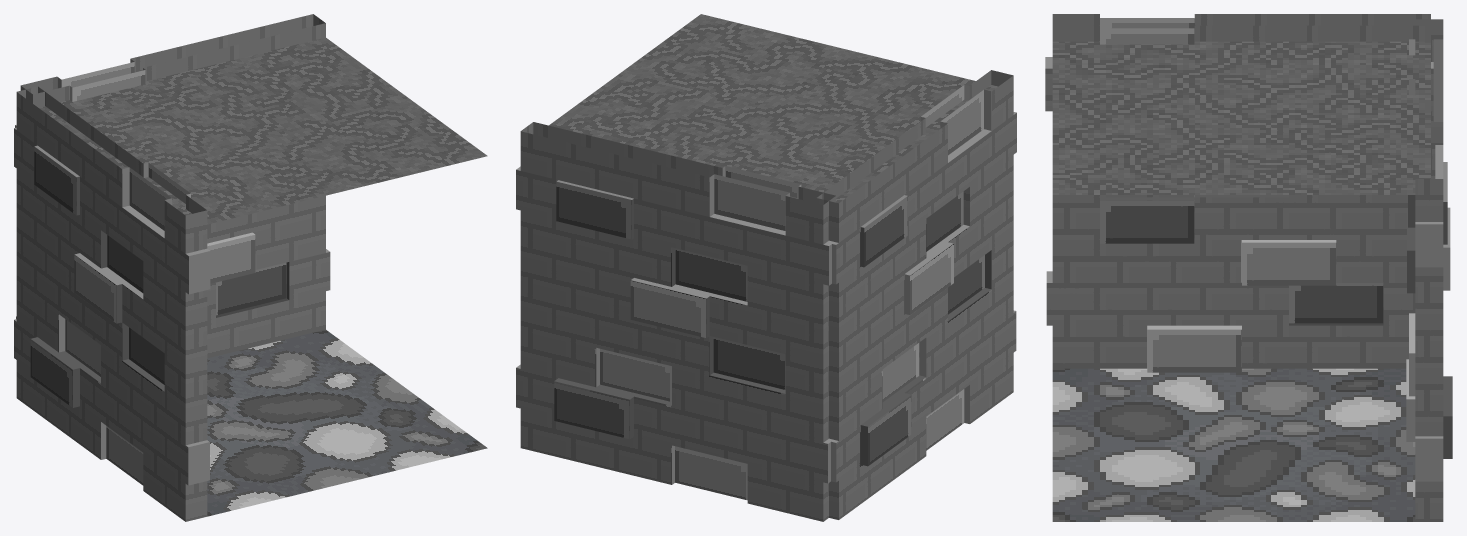
3 renders of one model, left to right at view 1: azimuth 30°, elevation 25°; view 2: azimuth 150°, elevation 25°; view 3: azimuth 270°, elevation 25°, orthographic. The views are drawn at different scales.
Parts seen in each view (by area): view 1: 2W-col; view 2: 2W-col; view 3: 2W-col.
Boxes of the visible parts, box(x1,y1,x2,y2) form: 2W-col: box(14, 14, 487, 521); 2W-col: box(516, 14, 1016, 521); 2W-col: box(1045, 14, 1452, 521).
Size of the model in its own units: 2.14 by 2 by 2.15.
Materials: 3 (3 with a texture image).
